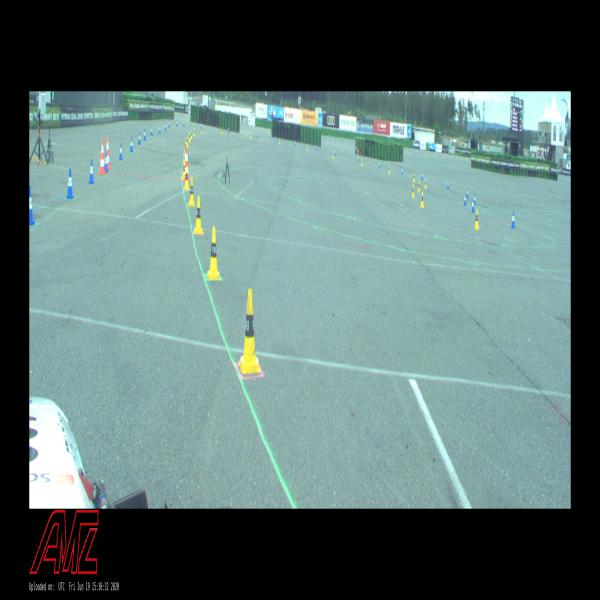blue_cone: (66, 168, 75, 199), (29, 184, 35, 225), (88, 158, 95, 184), (105, 150, 109, 172), (119, 142, 123, 160), (511, 211, 515, 228), (471, 196, 475, 213), (130, 137, 134, 152), (472, 193, 476, 206), (138, 132, 141, 144), (464, 193, 467, 205), (143, 129, 146, 140), (466, 187, 468, 198), (151, 126, 153, 136), (447, 180, 449, 189), (159, 125, 161, 133), (401, 166, 403, 174), (421, 172, 423, 180), (183, 120, 185, 127), (176, 120, 178, 127), (315, 144, 317, 151), (168, 121, 170, 127), (357, 156, 359, 162), (200, 122, 202, 128), (294, 140, 296, 146), (165, 123, 166, 130), (379, 161, 380, 168), (335, 149, 336, 156), (256, 132, 257, 138), (228, 127, 229, 133), (275, 136, 276, 142)
large_orange_cone: (97, 139, 107, 175), (104, 137, 112, 171), (183, 148, 190, 183), (183, 148, 188, 182)
yellow_cone: (238, 288, 261, 374), (206, 226, 220, 280), (194, 196, 203, 234), (188, 178, 196, 208), (184, 166, 189, 190), (474, 208, 479, 230), (182, 158, 186, 178), (420, 191, 424, 208), (185, 136, 189, 147), (184, 140, 187, 153), (424, 178, 427, 189), (188, 132, 191, 142), (412, 185, 414, 197), (418, 180, 420, 192), (413, 172, 415, 182), (190, 130, 192, 140), (201, 126, 203, 134), (193, 128, 195, 136), (332, 152, 334, 159), (388, 166, 390, 173), (221, 128, 223, 134), (361, 158, 362, 166), (250, 132, 251, 139), (307, 144, 308, 151), (279, 138, 280, 144)
